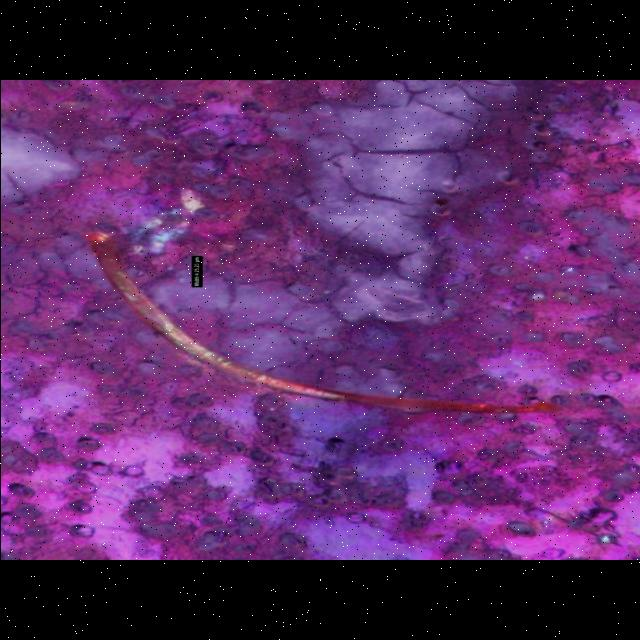Fibre: (80, 226, 556, 417)
